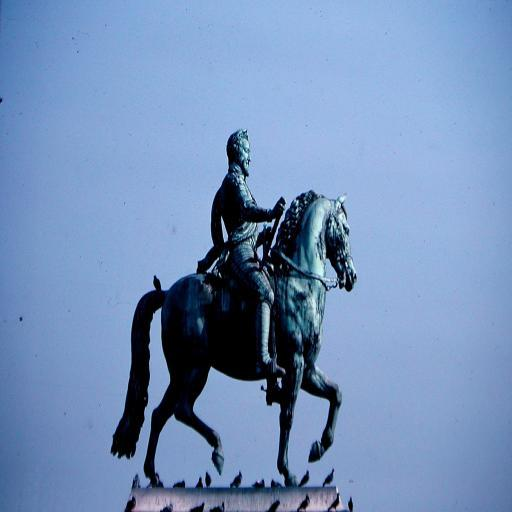Horse: (112, 191, 356, 489)
